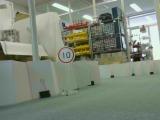speed_10: (56, 45, 76, 64)
